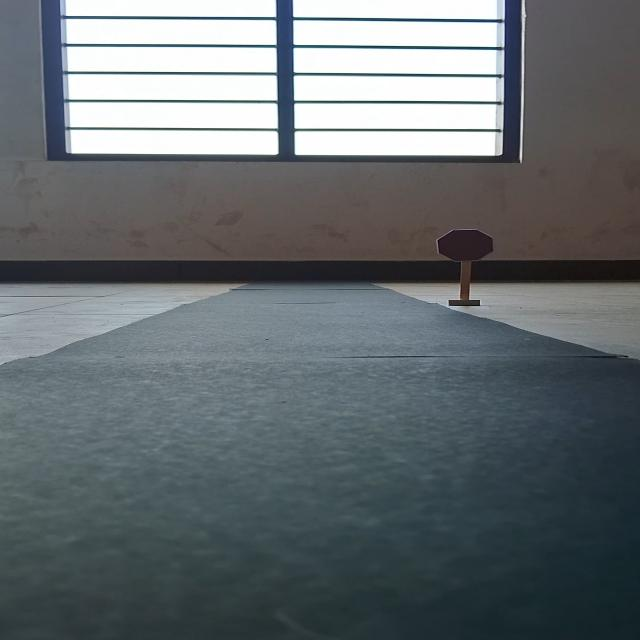Stop: (436, 229, 495, 262)
